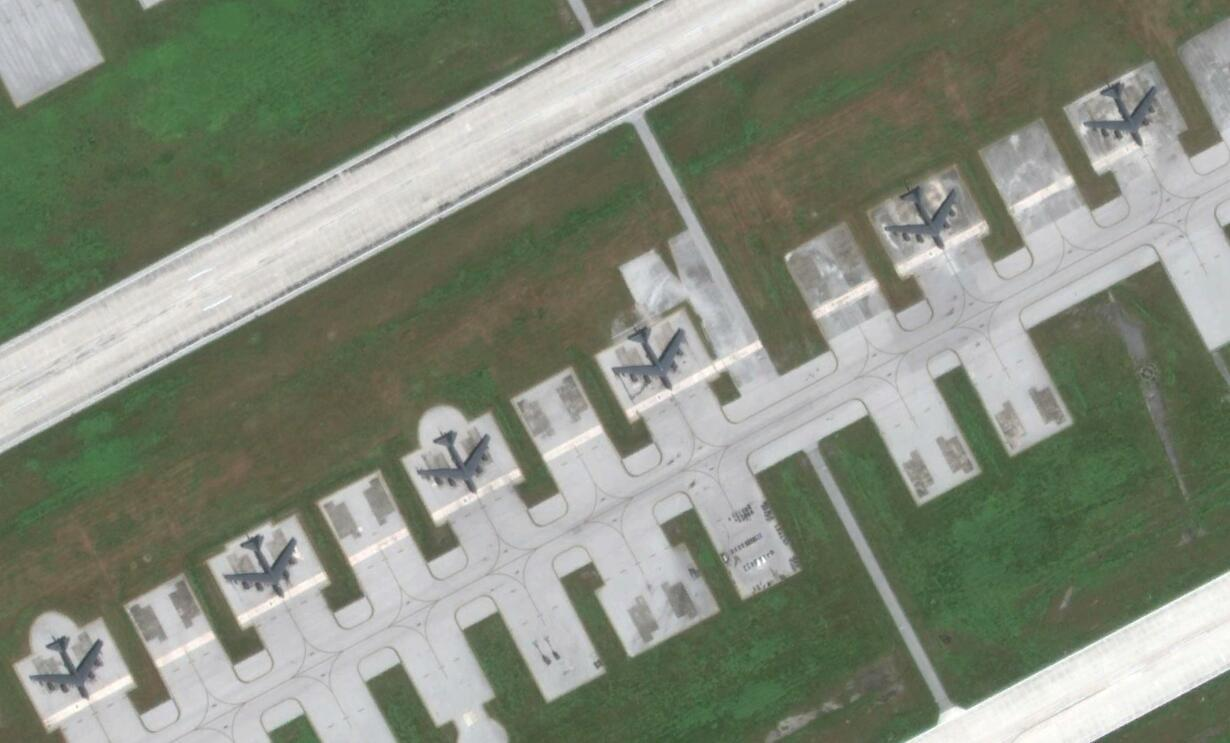A8: (606, 323, 693, 393), (1081, 78, 1163, 149), (413, 427, 496, 496), (29, 632, 109, 702), (221, 531, 301, 599), (887, 180, 962, 252)
